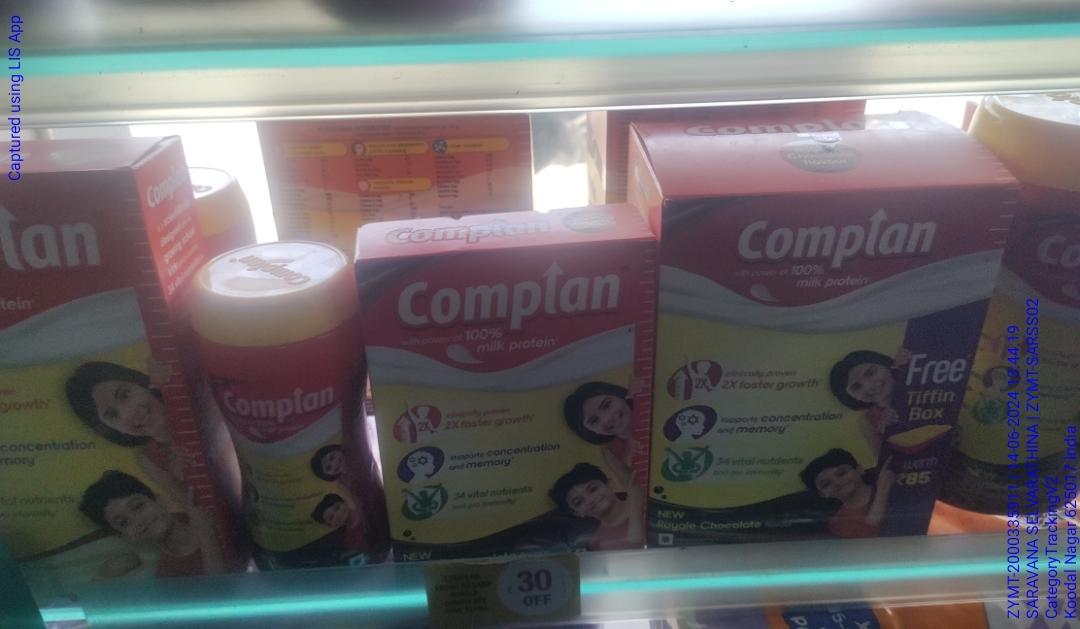COMPLAN_CHOCOLATE_500_GMS_JAR: (214, 265, 351, 575)
COMPLAN_CHOCOLATE_500_GMS_PACK: (662, 189, 949, 536), (372, 247, 650, 535)
